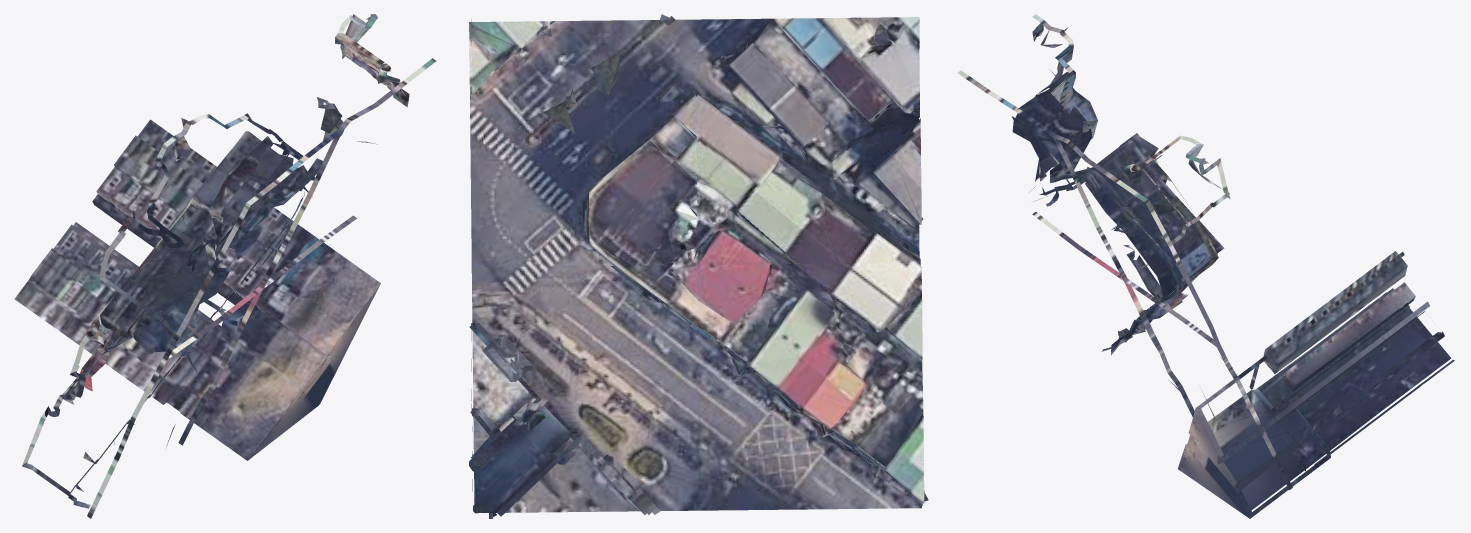
The picture shows the model from 3 angles, left to right: view 1: azimuth 30°, elevation 25°; view 2: azimuth 150°, elevation 25°; view 3: azimuth 270°, elevation 25°; orthographic projection. The views are drawn at different scales.
Size of the model in its own units: 83.4 by 81.93 by 96.
Materials: 2 (2 with a texture image).
